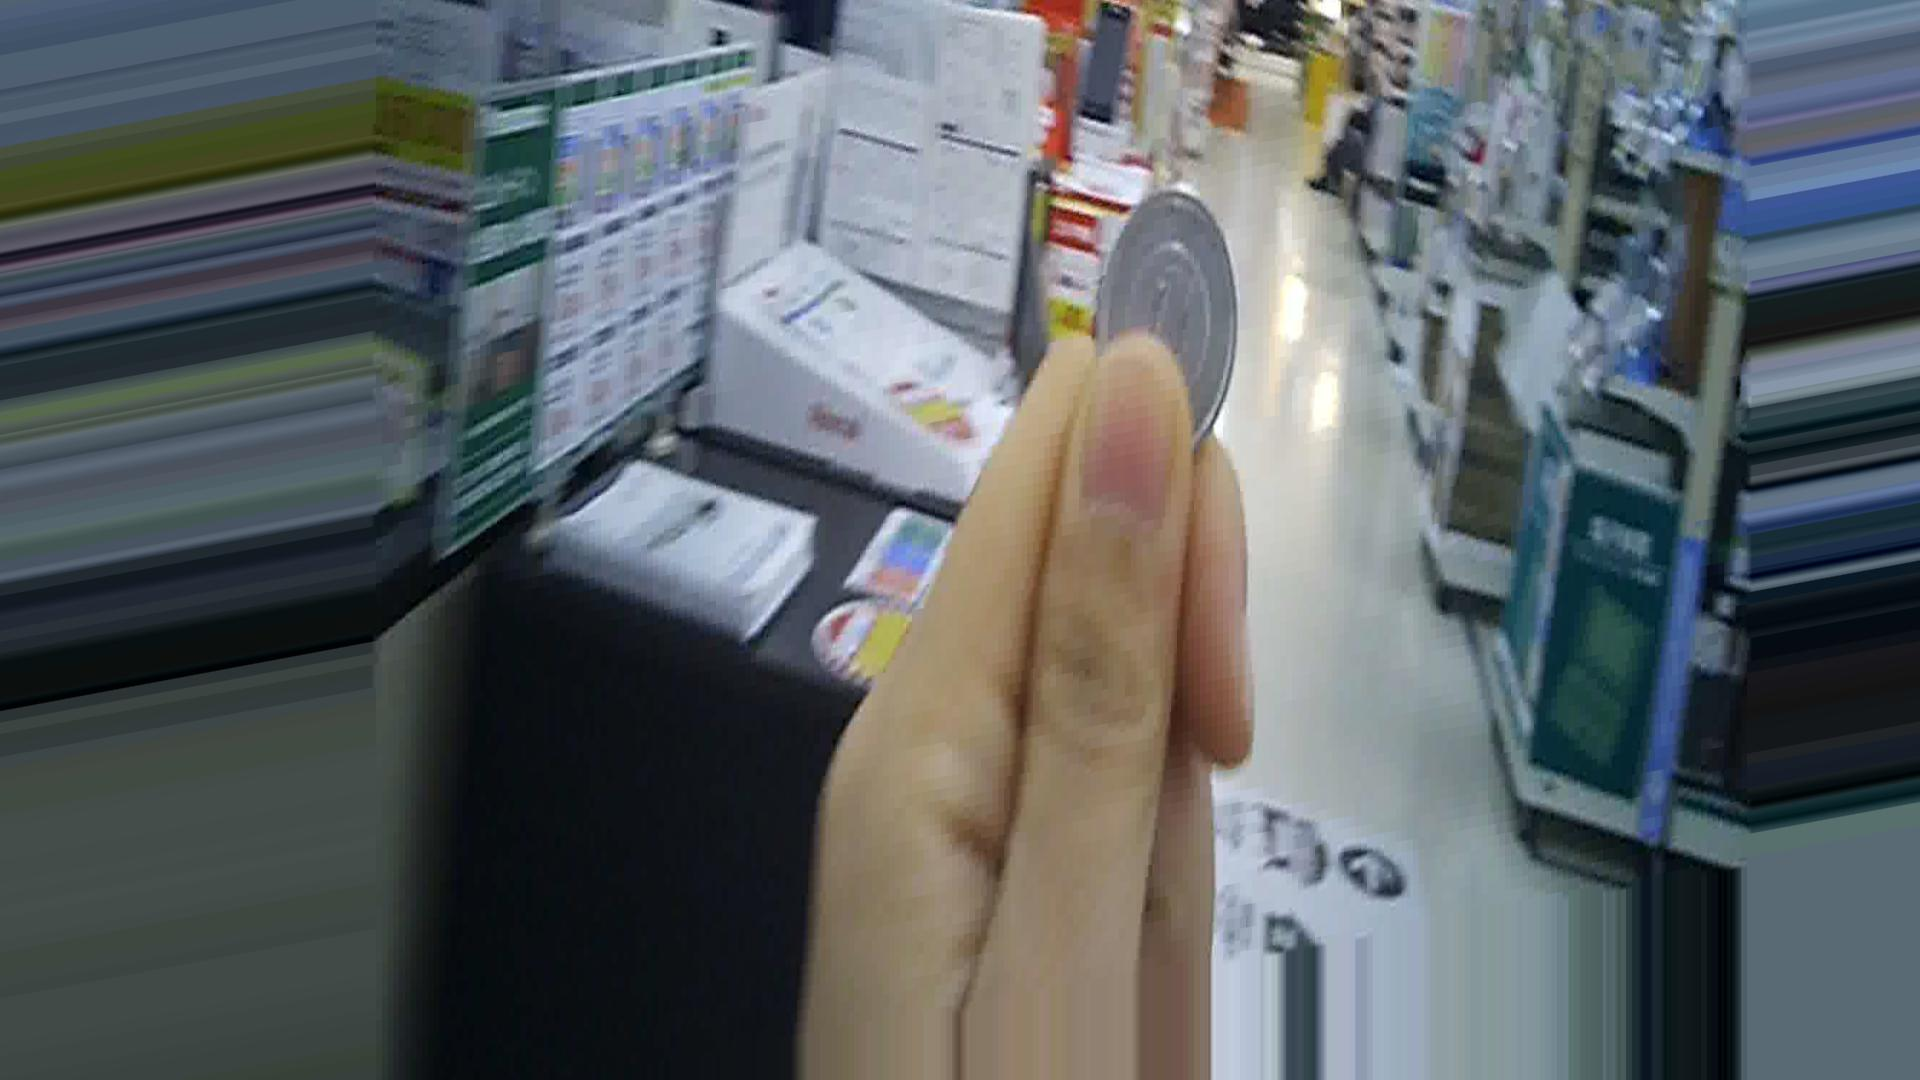1 Yen: (1095, 169, 1233, 435)
